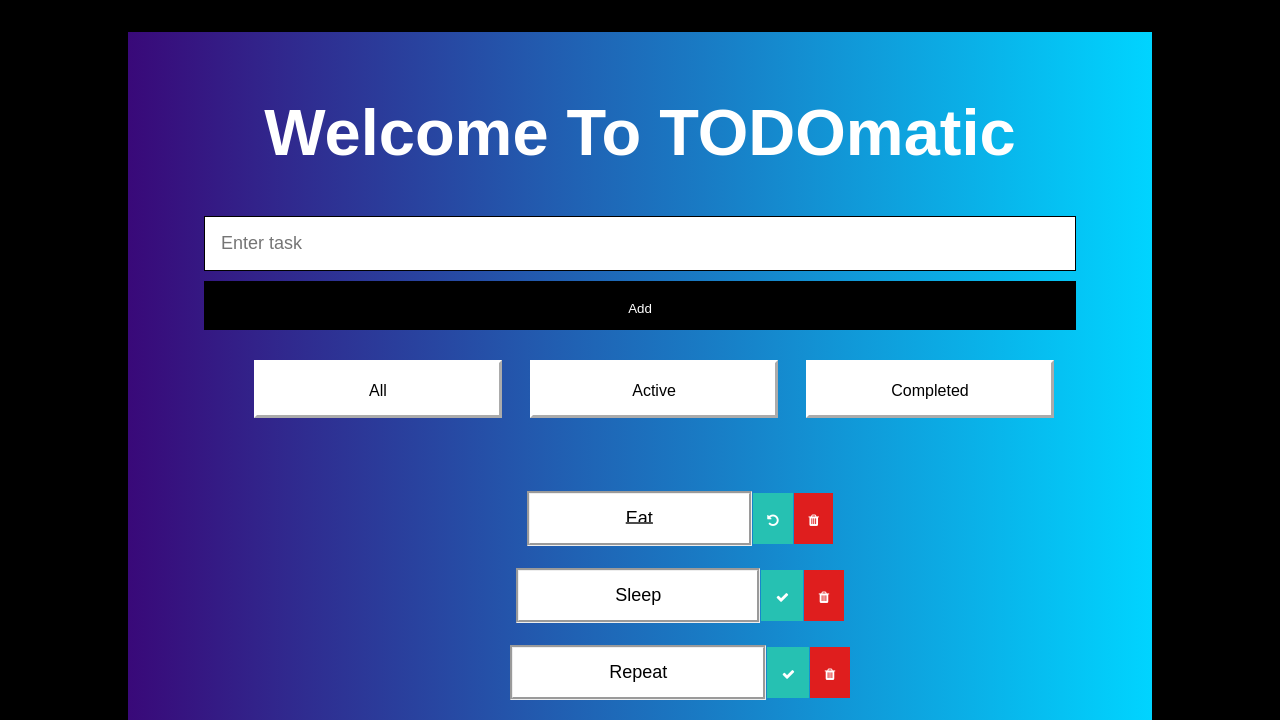
Checking all functionalities › Should remove the task when bin button clicked
Click the 3rd button with class "btn__del".
click(830, 673)  # box [810,647,849,698]
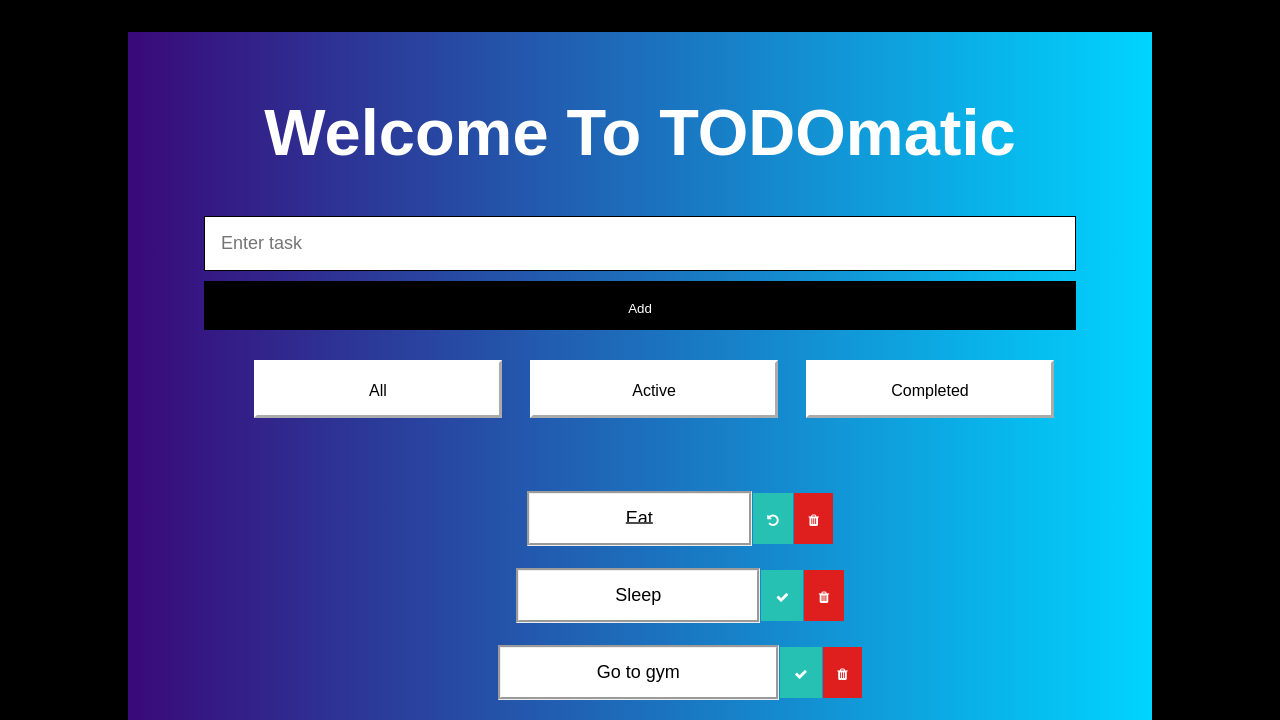
Now the text "Repeat" is gone
